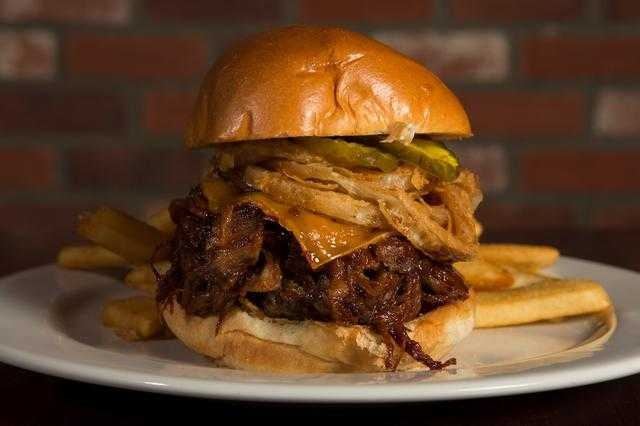hamburger: (156, 24, 475, 367)
